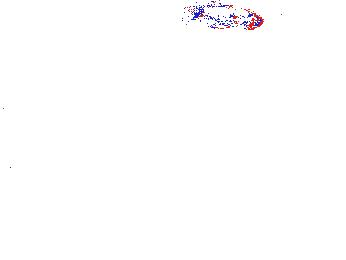redtail glassfish: (185, 2, 266, 33)
